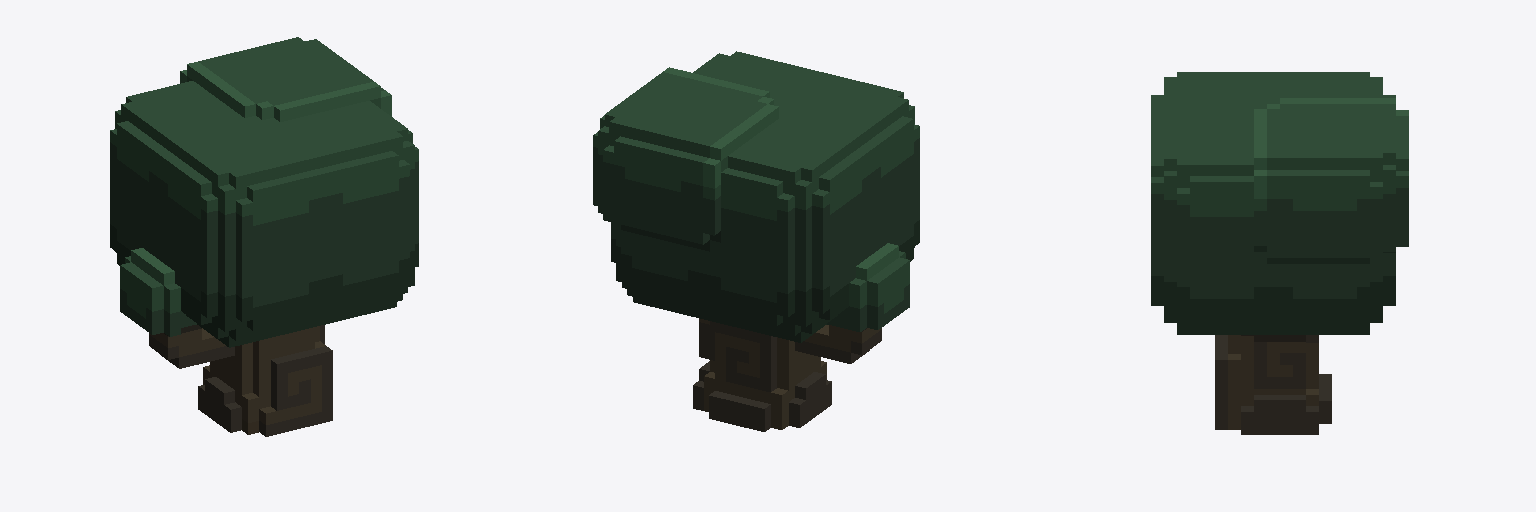
The picture shows the model from 3 angles: view 1: azimuth 30°, elevation 25°; view 2: azimuth 150°, elevation 25°; view 3: azimuth 270°, elevation 25°; orthographic projection.
Parts seen in each view (by area): view 1: Matrix_11; view 2: Matrix_11; view 3: Matrix_11.
Part boxes in pixels (x1,y1,x2,y2): Matrix_11: (110, 37, 418, 436); Matrix_11: (593, 51, 919, 431); Matrix_11: (1151, 72, 1408, 434).
Size of the model in its own units: 22 by 26 by 20.
Materials: 1 (1 with a texture image).